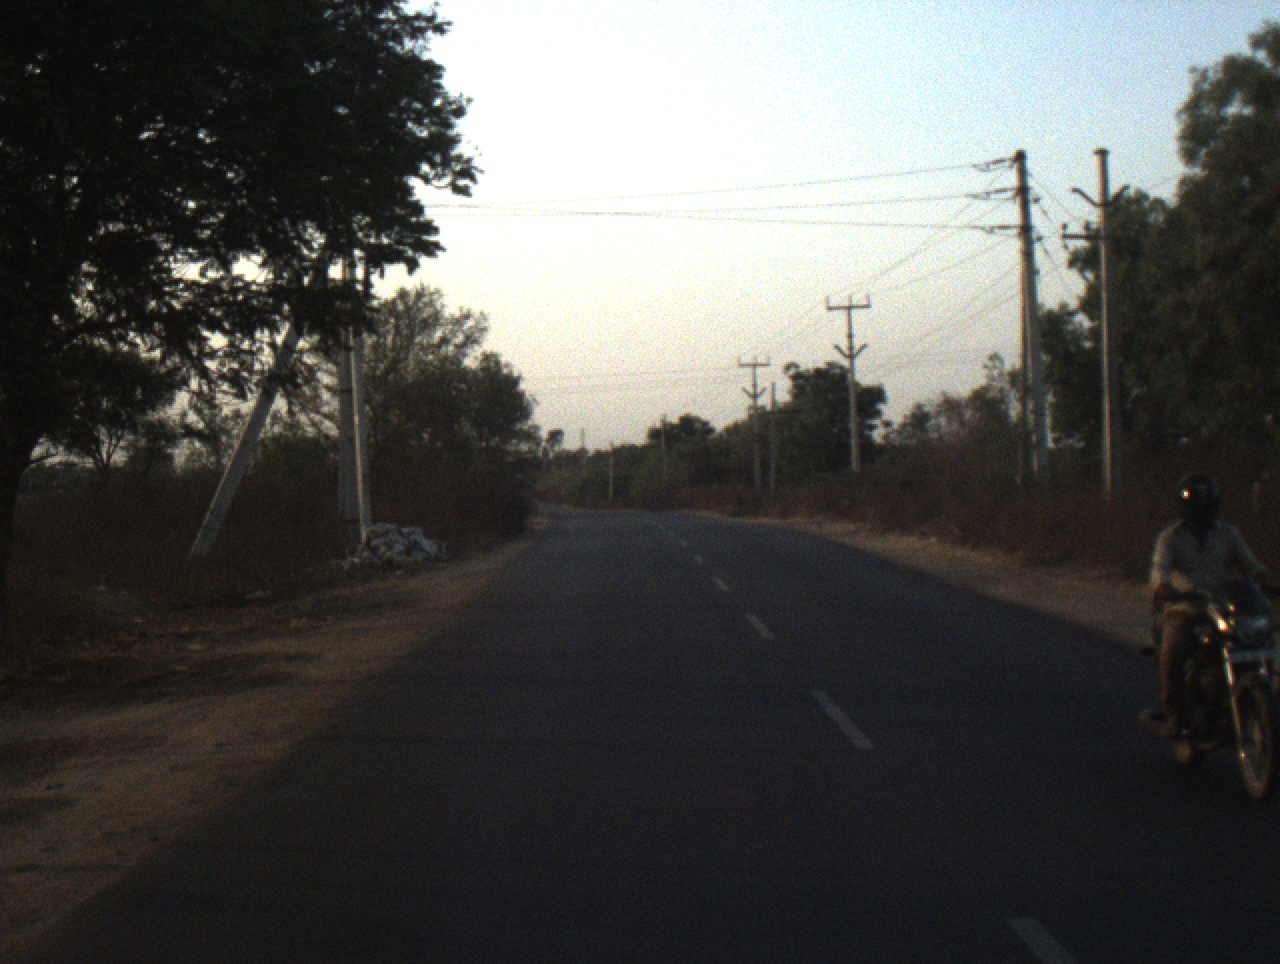motorcycle: (1123, 570, 1279, 811)
rider: (1138, 480, 1267, 771)
